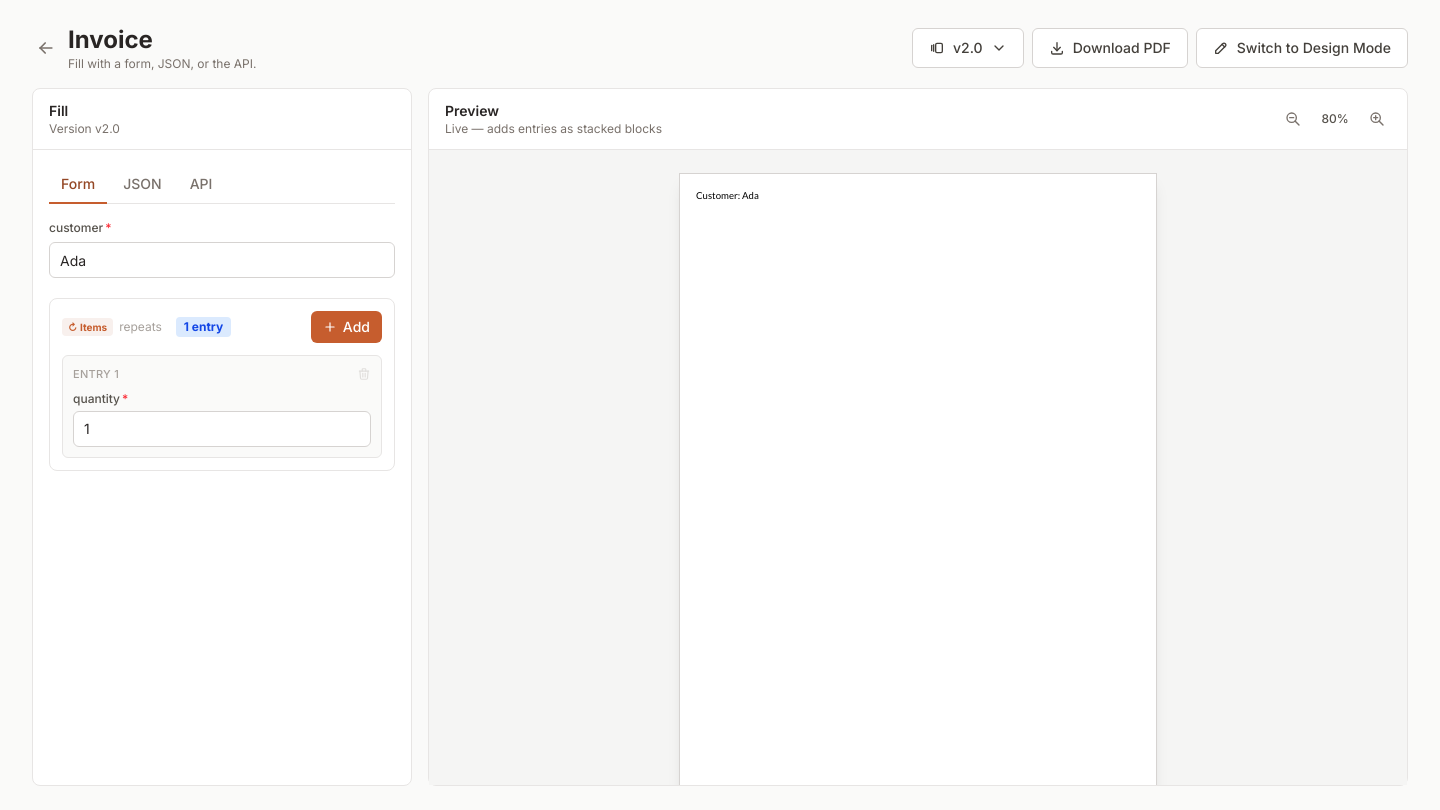
fixed template fill modes › rejects incompatible JSON: []
Click the button "JSON" at (142, 185), box left=111, top=166, right=174, bottom=204
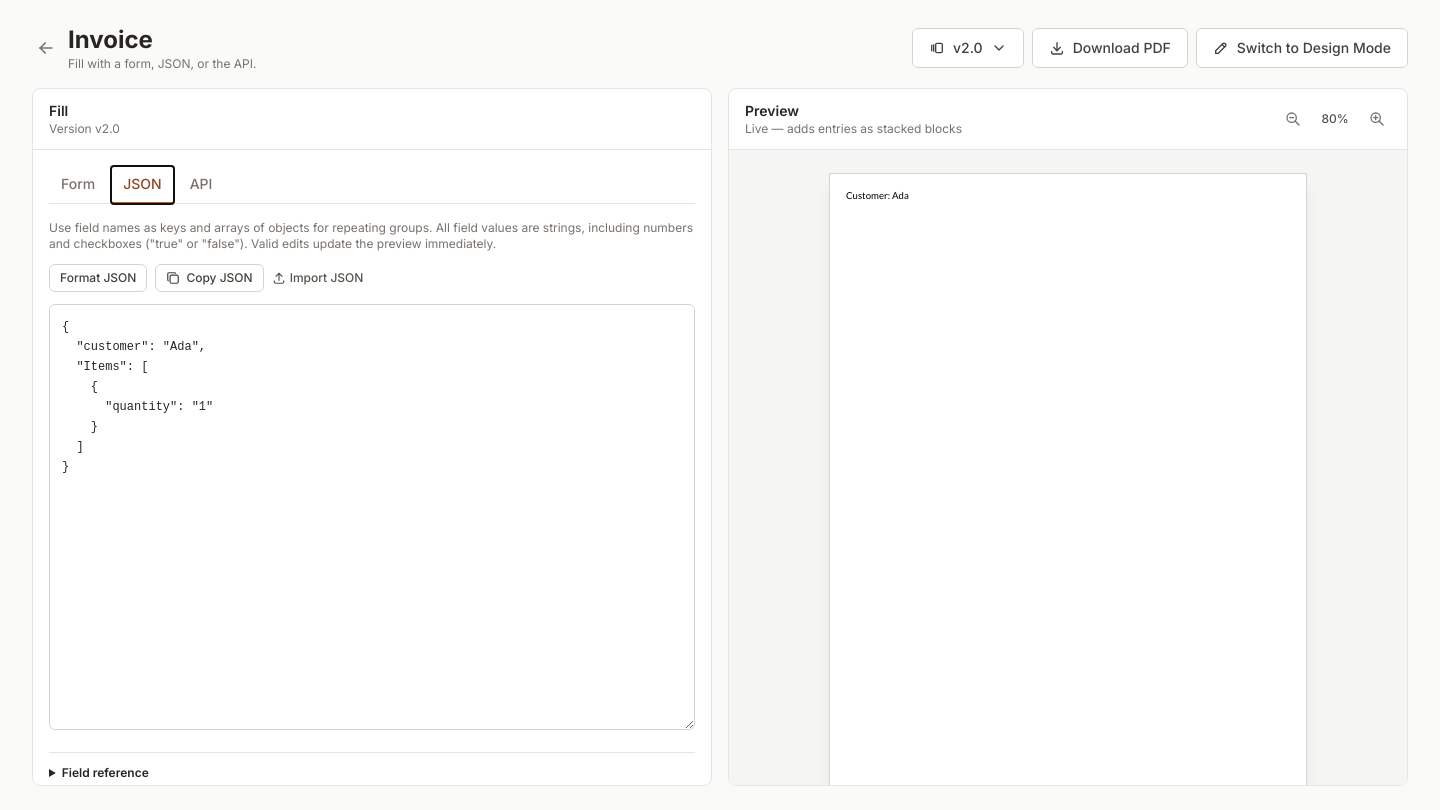
Replace the text in the text box named "JSON fill values" with "[]" at (372, 517), box left=49, top=304, right=695, bottom=730
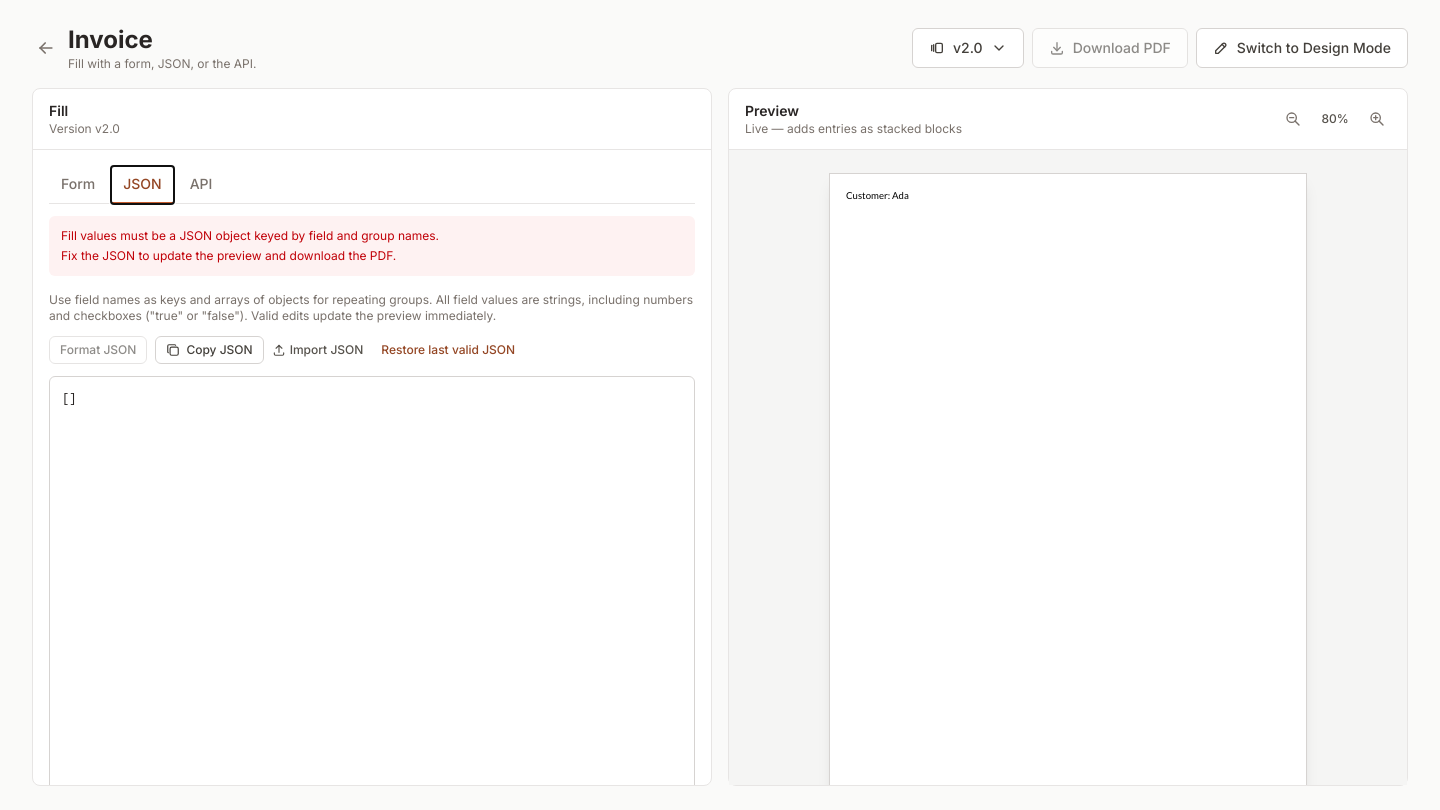
Expected: the message shows "JSON object", left=61, top=228, right=439, bottom=243
Expected: the button "Download PDF" is disabled, left=1032, top=28, right=1188, bottom=68
